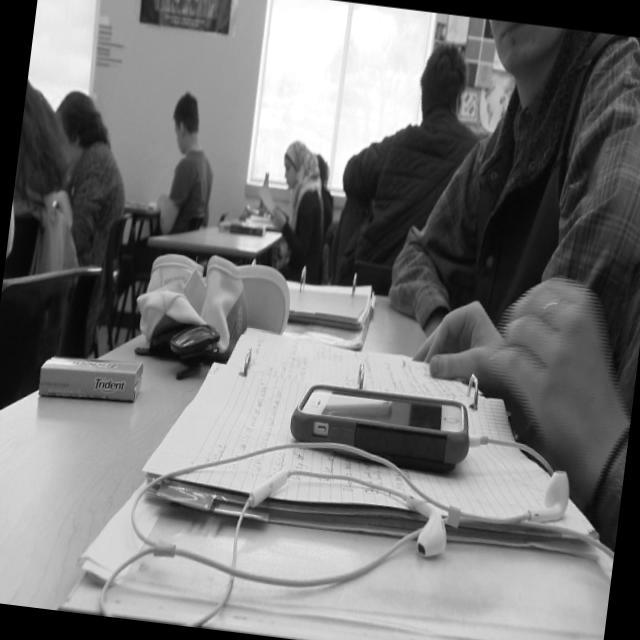phone: (286, 378, 474, 476)
